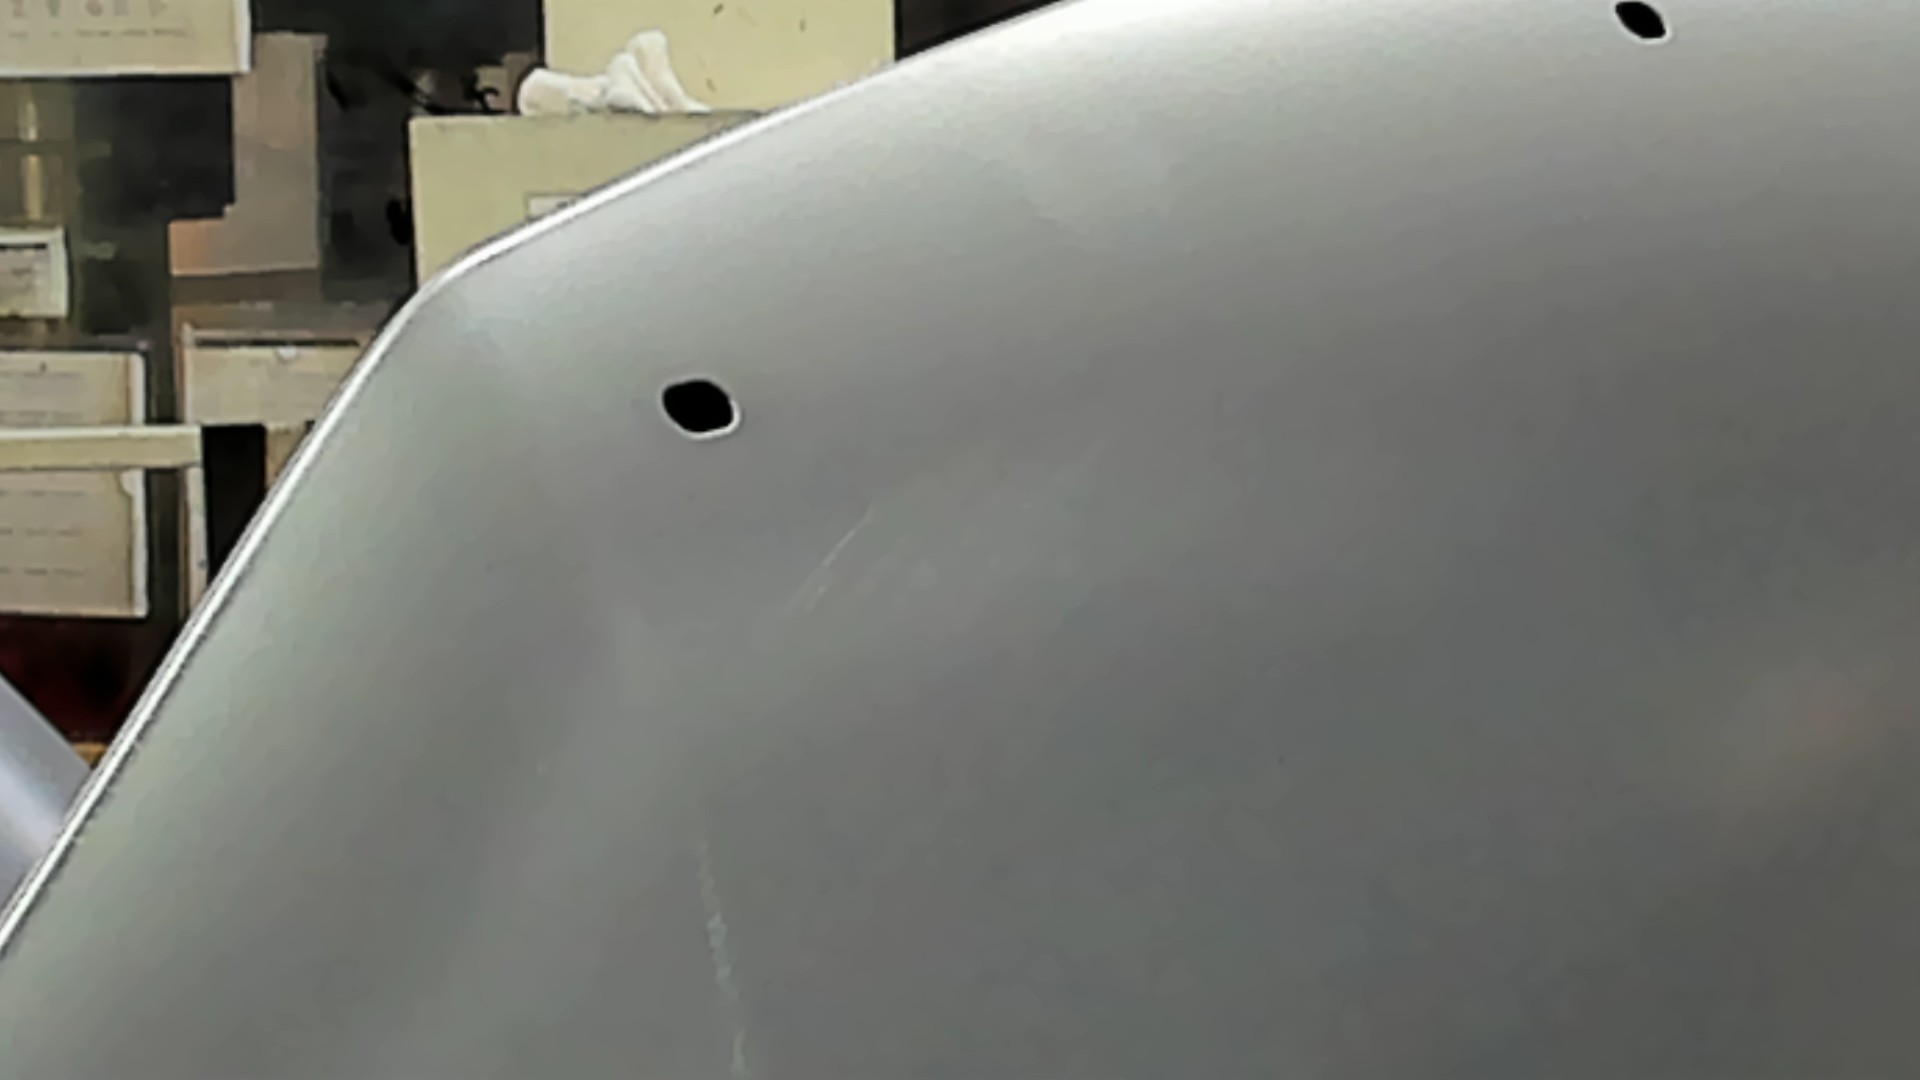amorfo: (657, 377, 742, 442), (1610, 1, 1673, 46)
